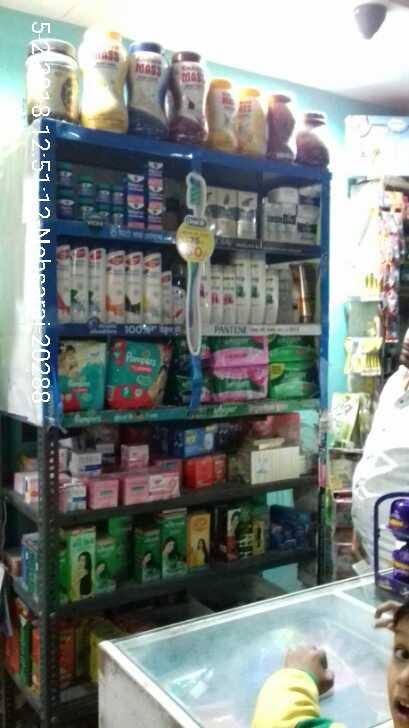vicks: (50, 157, 169, 236)
